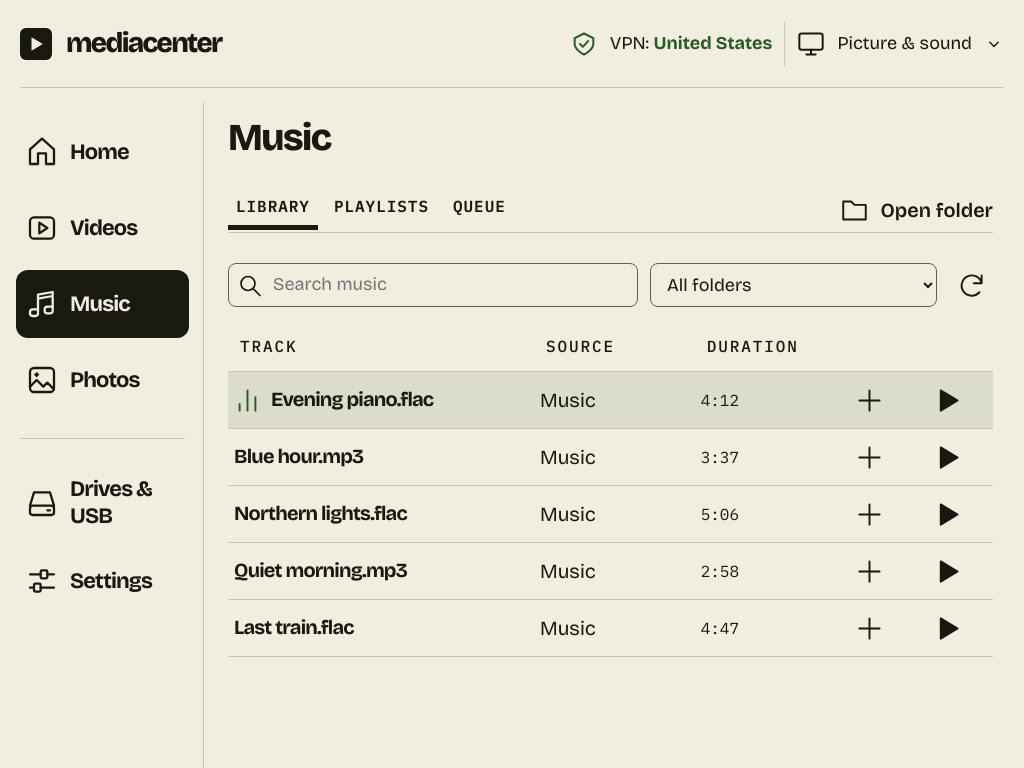
keeps folder management in Settings and never duplicates external music controls
expect the button "Evening piano.flac" is shown: met, box [271,378,433,422]
Click the button "Photos".
click(102, 380)  # box [16,346,189,414]
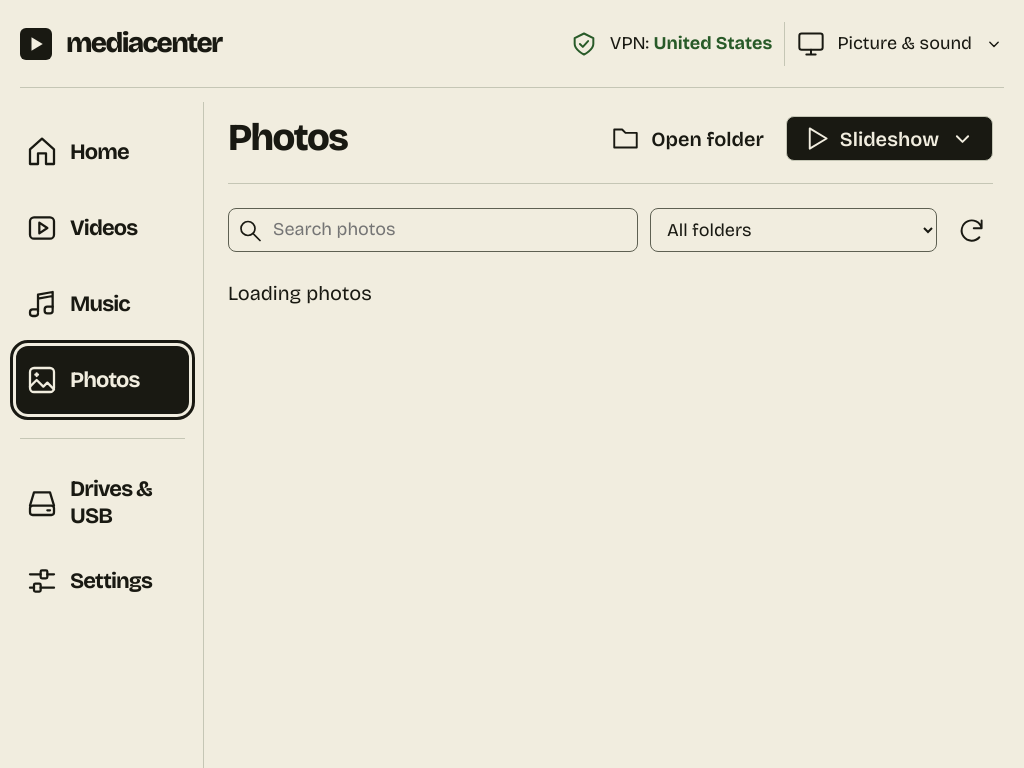
expect the button "Open folder" is shown: met, box [612,116,764,160]
Click the button "Videos".
click(102, 228)  # box [16,194,189,262]
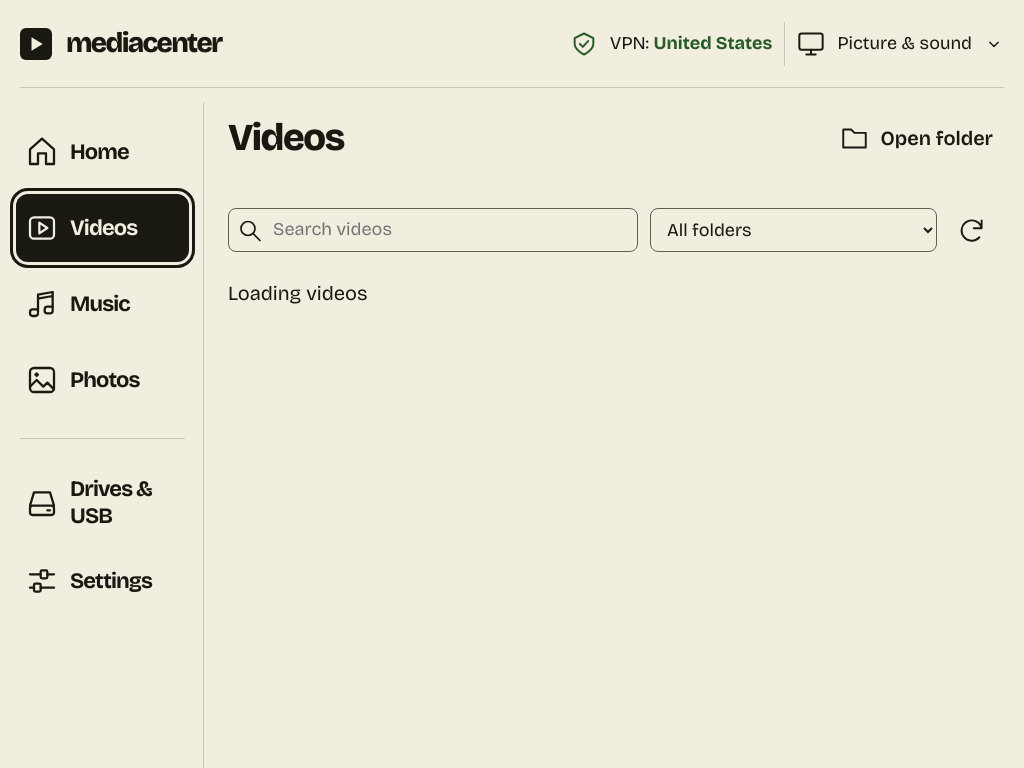
expect the button "Open folder" is shown: met, box [842,116,993,160]
Click the button "Music".
click(102, 304)  # box [16,270,189,338]
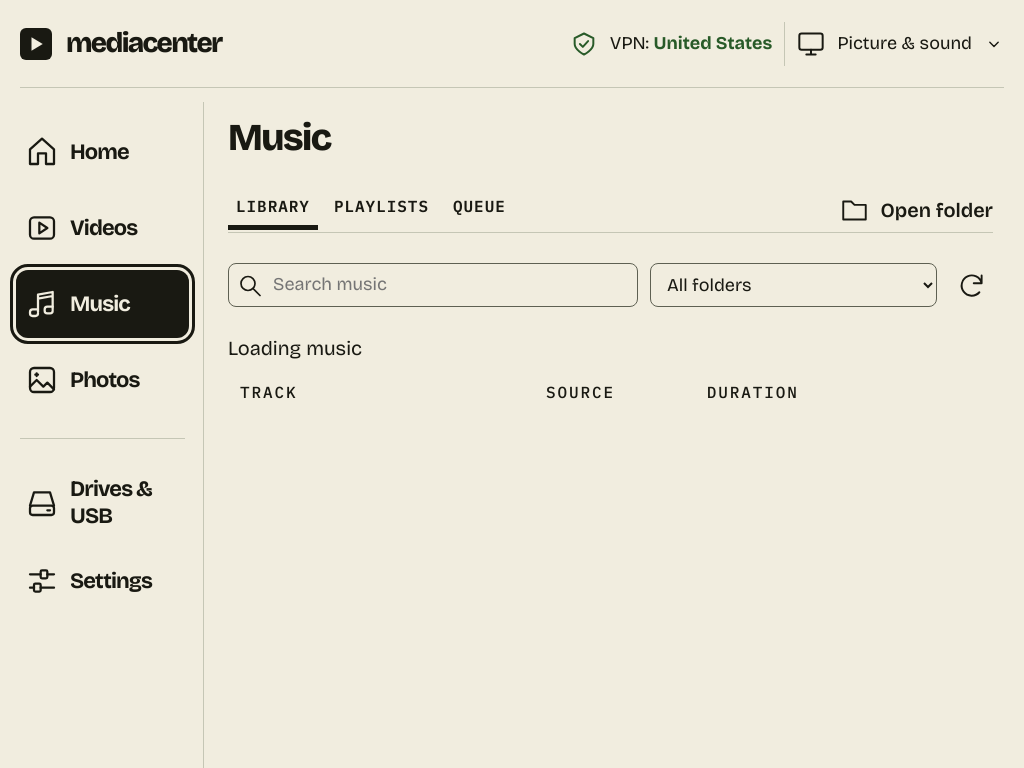
expect the button "Open folder" is shown: met, box [842,188,993,232]
Click the button "Settings".
click(102, 581)  # box [16,547,189,615]
(page scrolled)
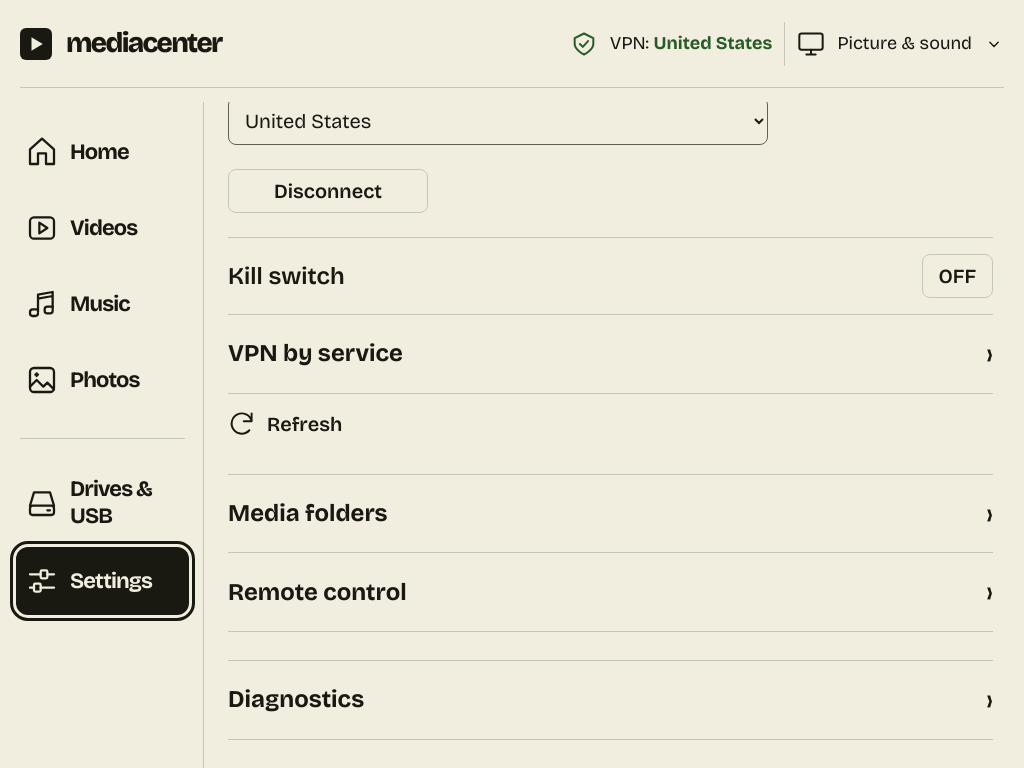
Click the button "Media folders ›".
click(308, 513)  # box [228,474,993,553]
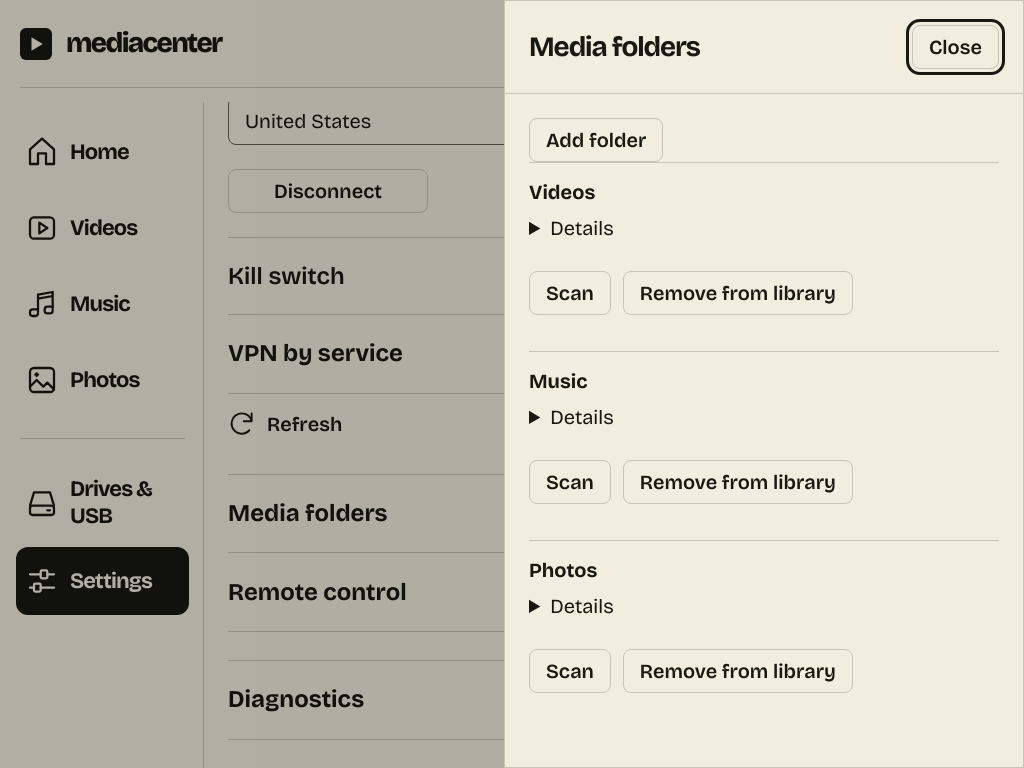
expect the dialog "Media folders" is shown: met, box [504,0,1023,767]
expect the button "Add folder" is shown: met, box [529,118,663,162]
